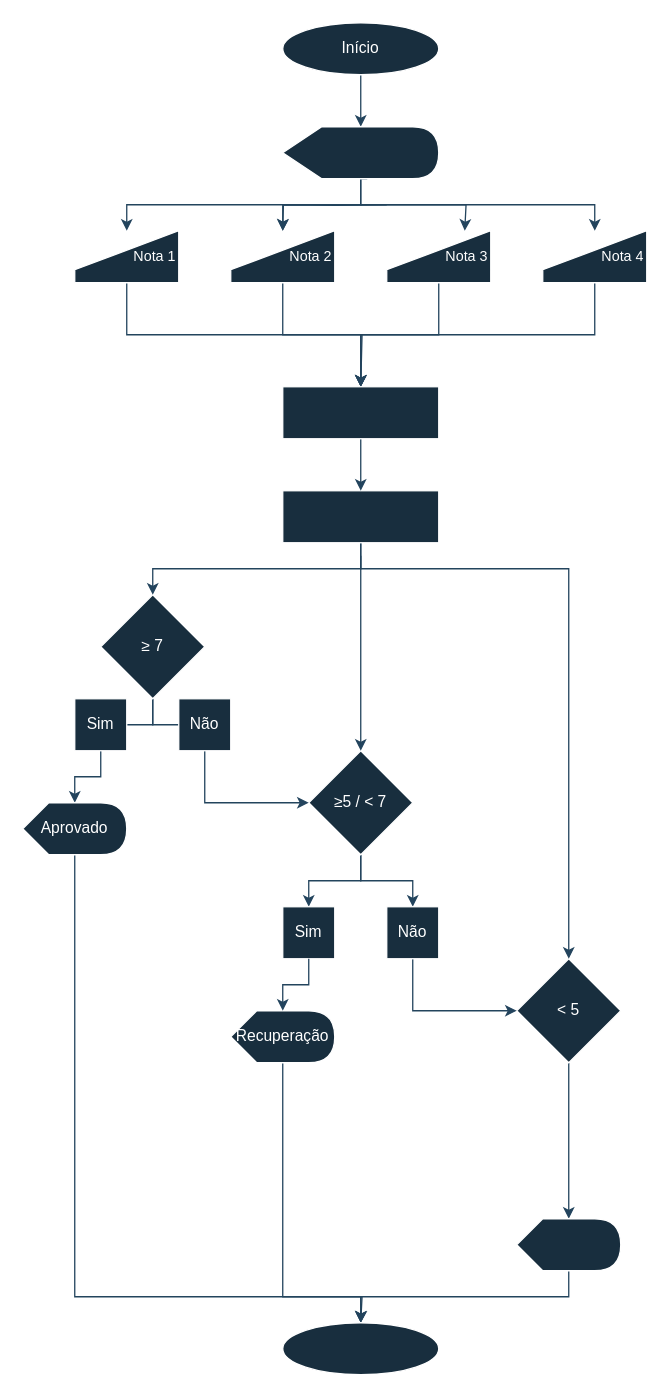
The diagram is 670 pixels wide and 1398 high, and some of its shapes have lost their labels. The shapes that lost their labels are listed below. From the top down, each one's centre as x and y in pixels, then its label:
the point at 360,152: Digitar notas
the point at 360,412: Média (N1+N2+N3+N4)/4
the point at 360,516: Média calculada
the point at 568,1244: Reprovado
the point at 360,1348: Fim
